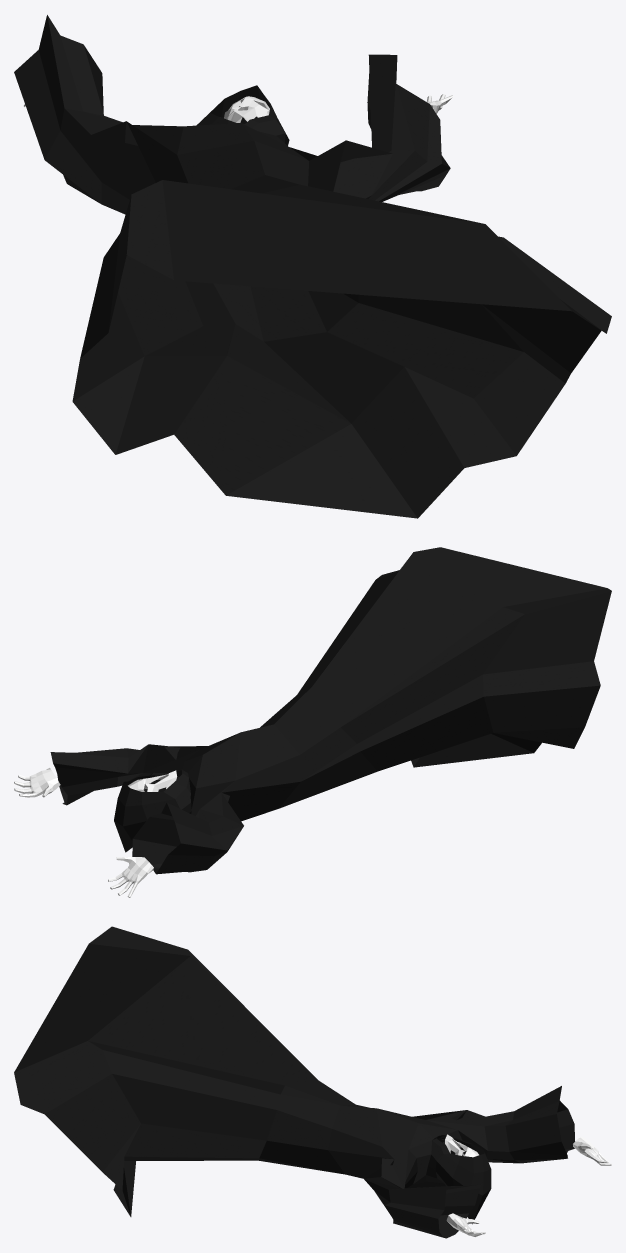
Rendered from ReaperDead(107).obj.
3 renders of one model, top to bottom at view 1: azimuth 30°, elevation 25°; view 2: azimuth 150°, elevation 25°; view 3: azimuth 270°, elevation 25°, orthographic. The views are drawn at different scales.
Visible parts, largest first — view 1: Plane003; view 2: Plane003; view 3: Plane003.
Part boxes in pixels (box(x1,y1,x2,y2)): Plane003: box(14, 15, 611, 518); Plane003: box(14, 547, 611, 897); Plane003: box(14, 926, 611, 1238).
Size of the model in its own units: 211 by 107 by 294.
